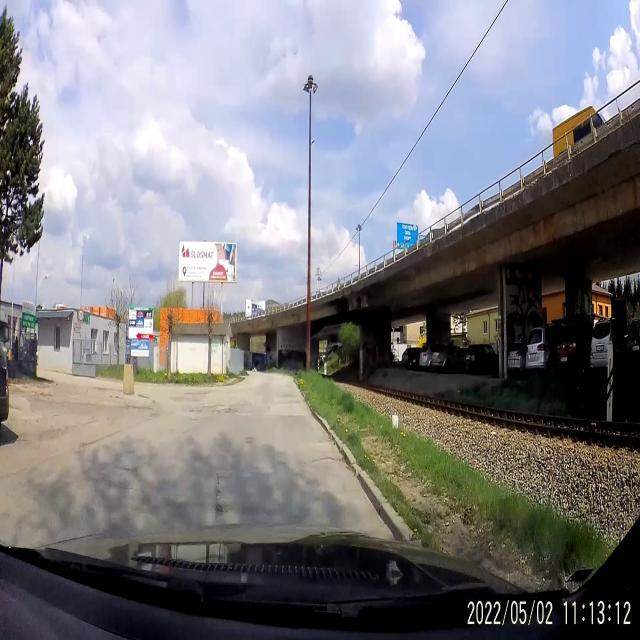Pothole: (208, 468, 229, 528), (304, 450, 344, 470)
